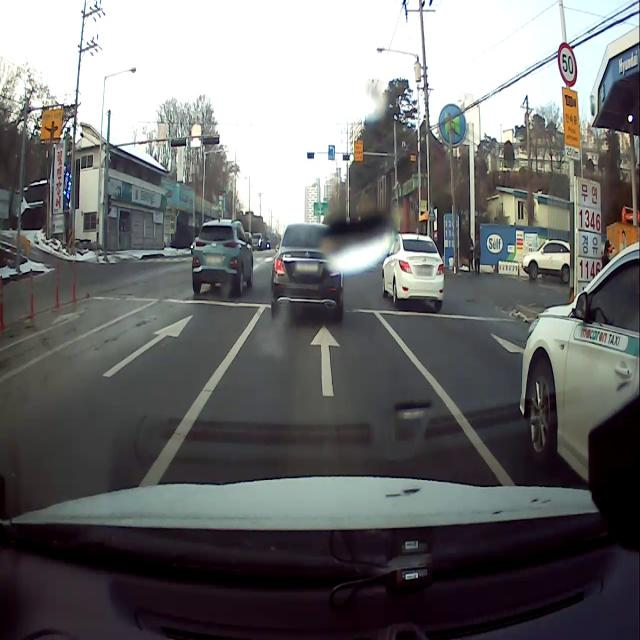Green Light: (349, 154, 354, 162), (314, 152, 318, 160)
